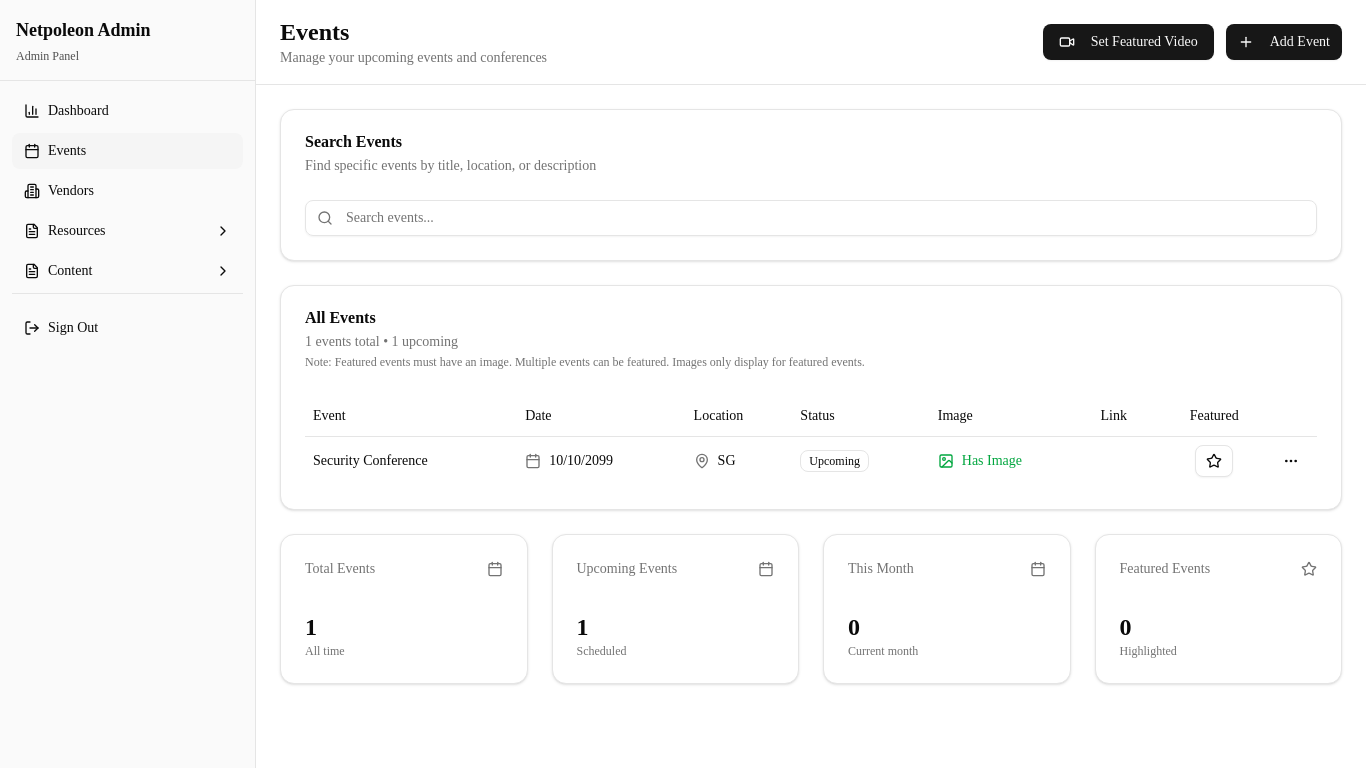
Test: Admin Events Page › adds a new event and list updates
Expected: the text "All Events" is shown, [305, 309, 376, 326]
Click the button "Add Event" at {"x": 1284, "y": 42}, box [1226, 24, 1342, 60]
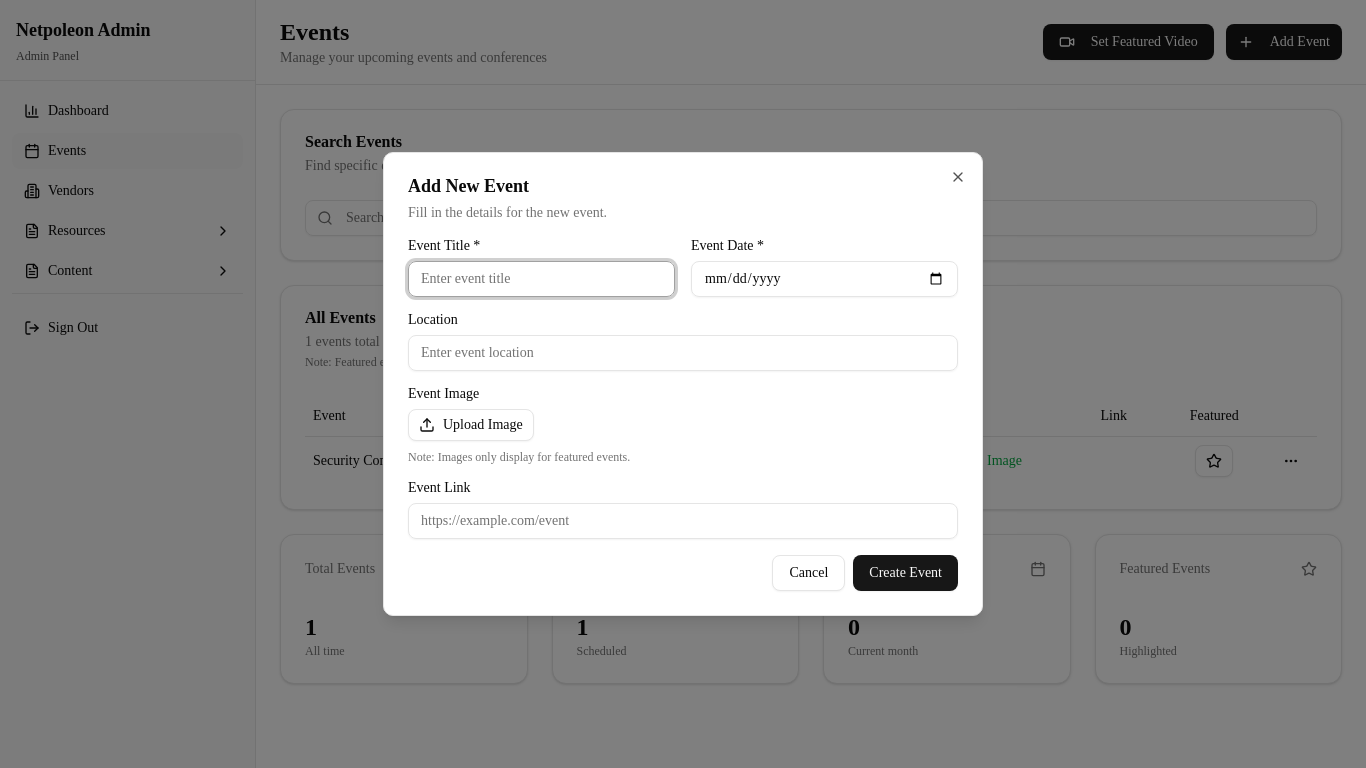
Type "Blue Team Meetup" into the field labelled "Event Title *" at {"x": 542, "y": 279}, box [408, 261, 675, 297]
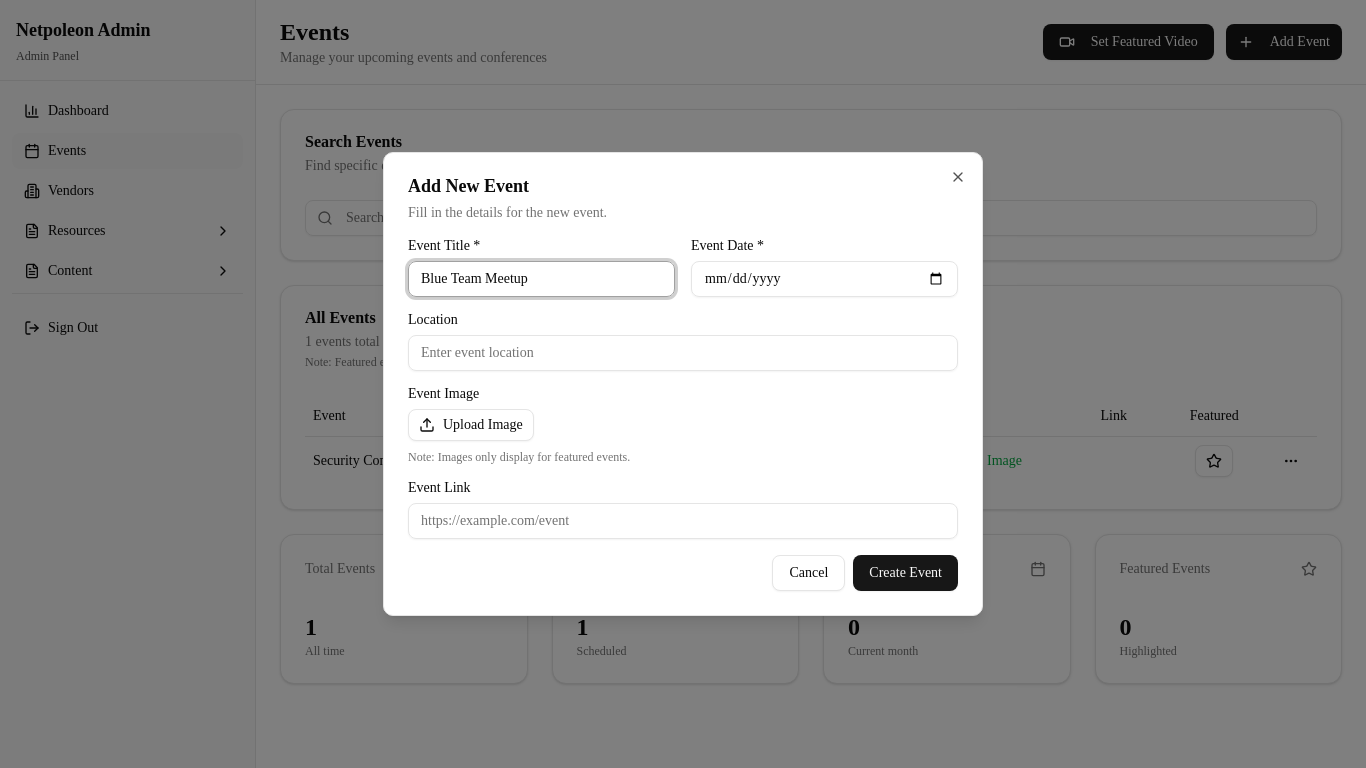
Type "2099-12-31" into the date field labelled "Event Date *" at {"x": 824, "y": 279}, box [691, 261, 958, 297]
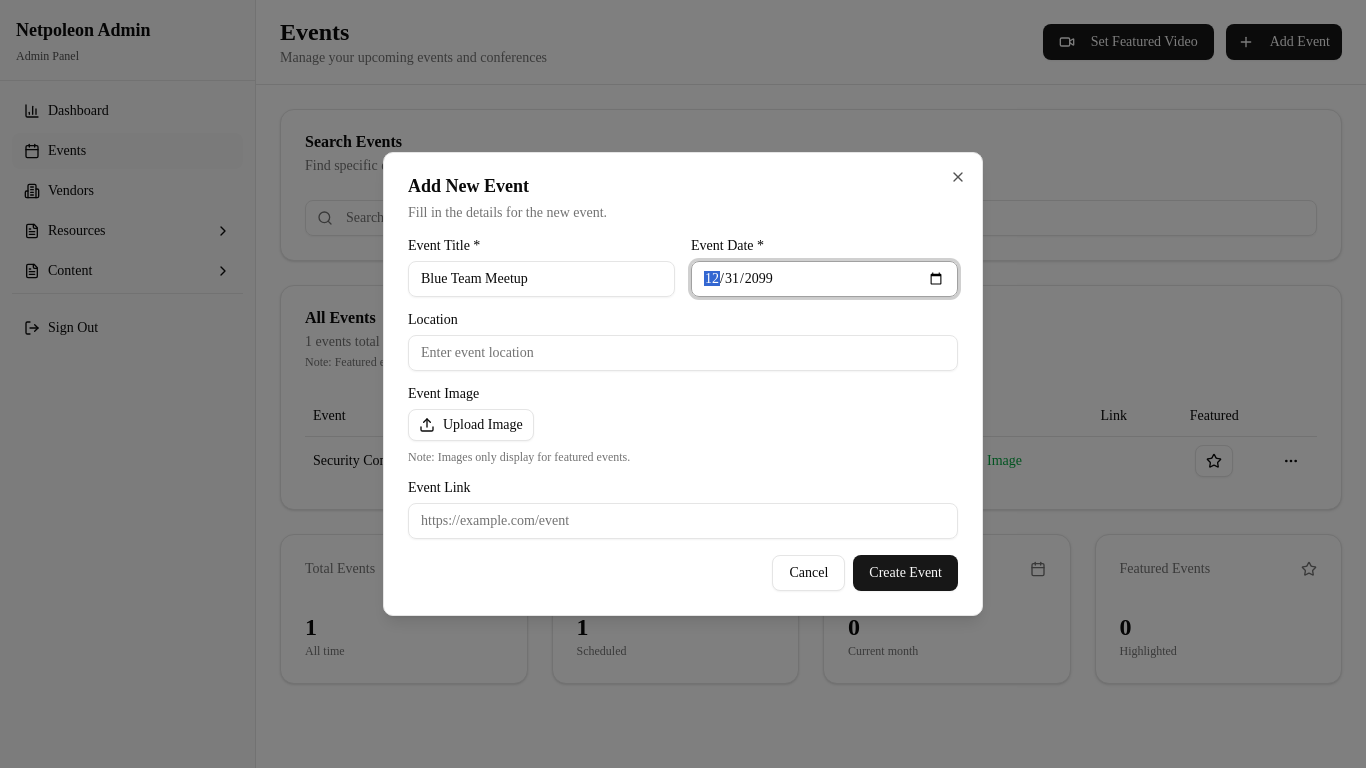
Click the button "Create Event" at {"x": 906, "y": 573}, box [853, 555, 958, 591]
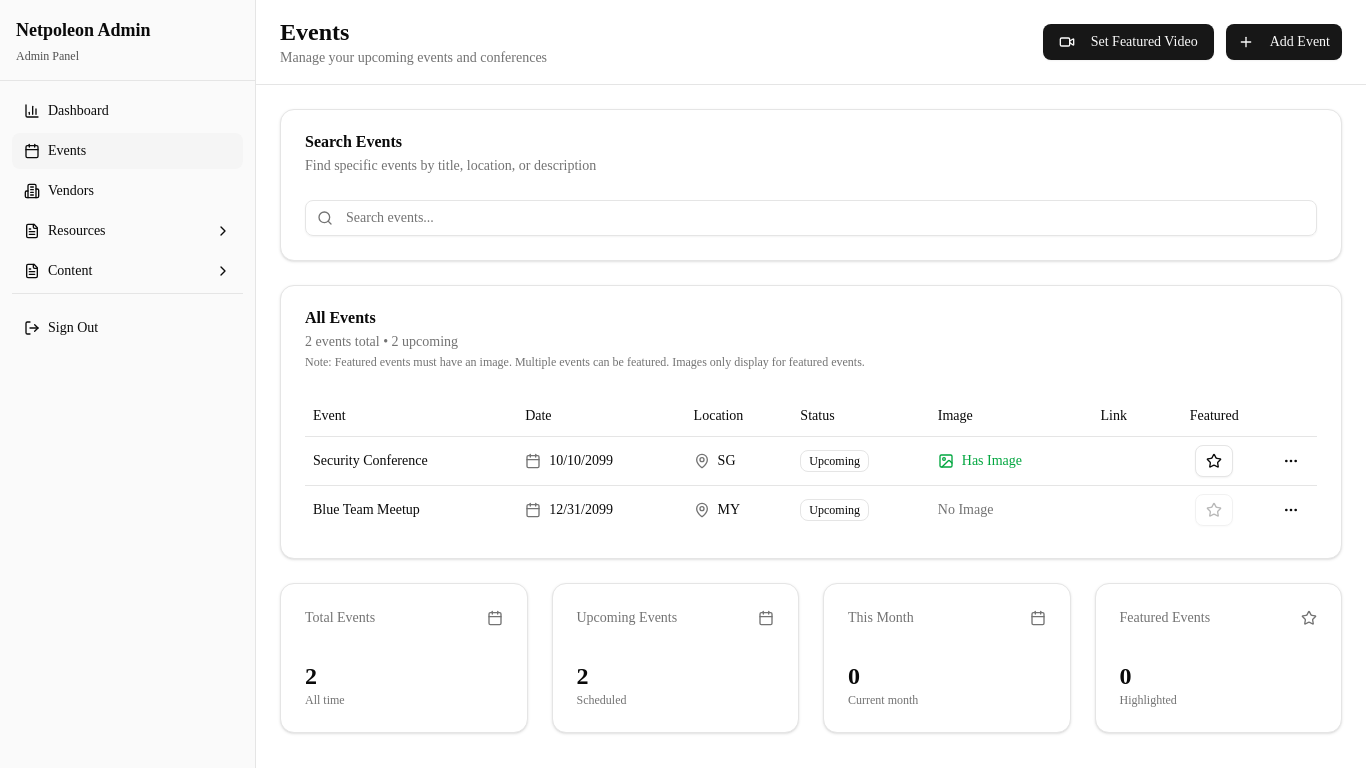
Expected: the text "Blue Team Meetup" is shown, [313, 502, 420, 516]
Expected: the text "2 events total" is shown, [305, 334, 865, 369]
